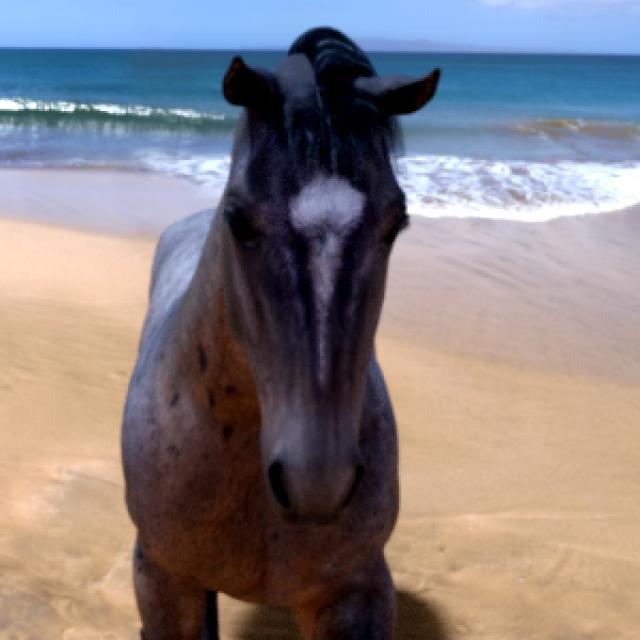horse: (122, 28, 439, 640)
